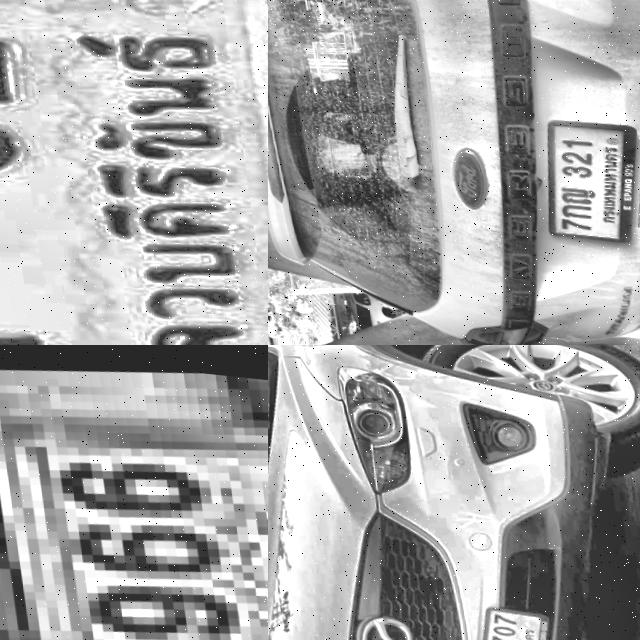license-plate: (0, 0, 268, 345), (0, 345, 268, 640), (527, 100, 640, 242), (450, 588, 561, 640)
